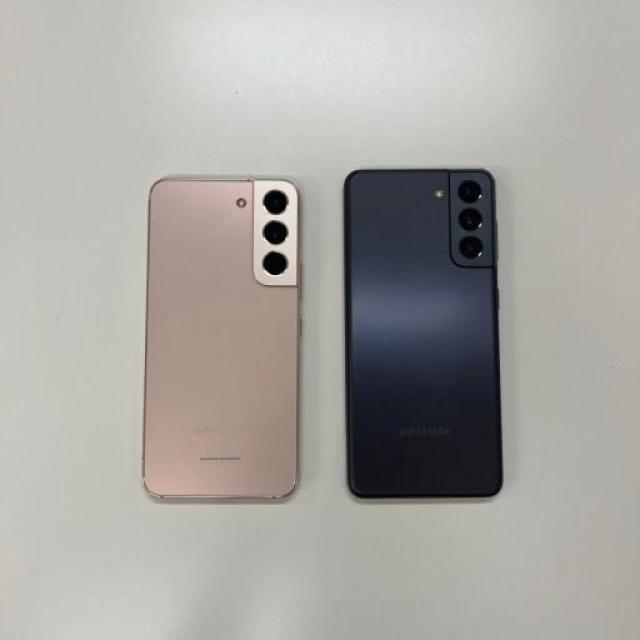mobile: (341, 159, 501, 509), (138, 170, 302, 505)
